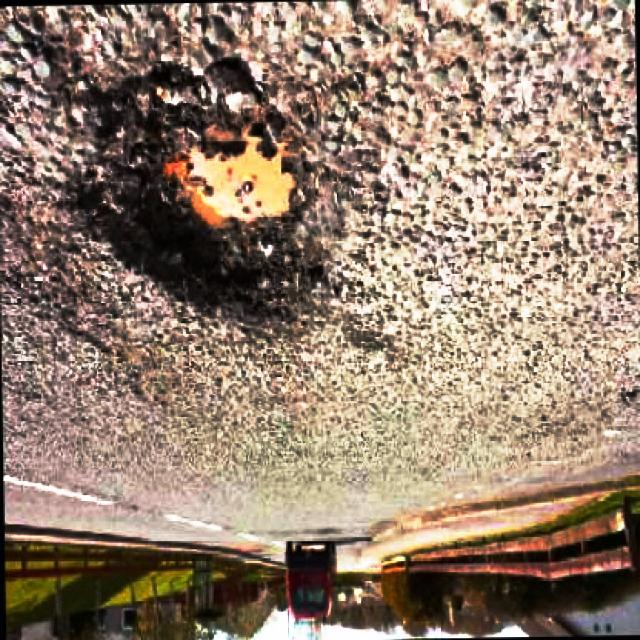pothole: (77, 66, 332, 329)
